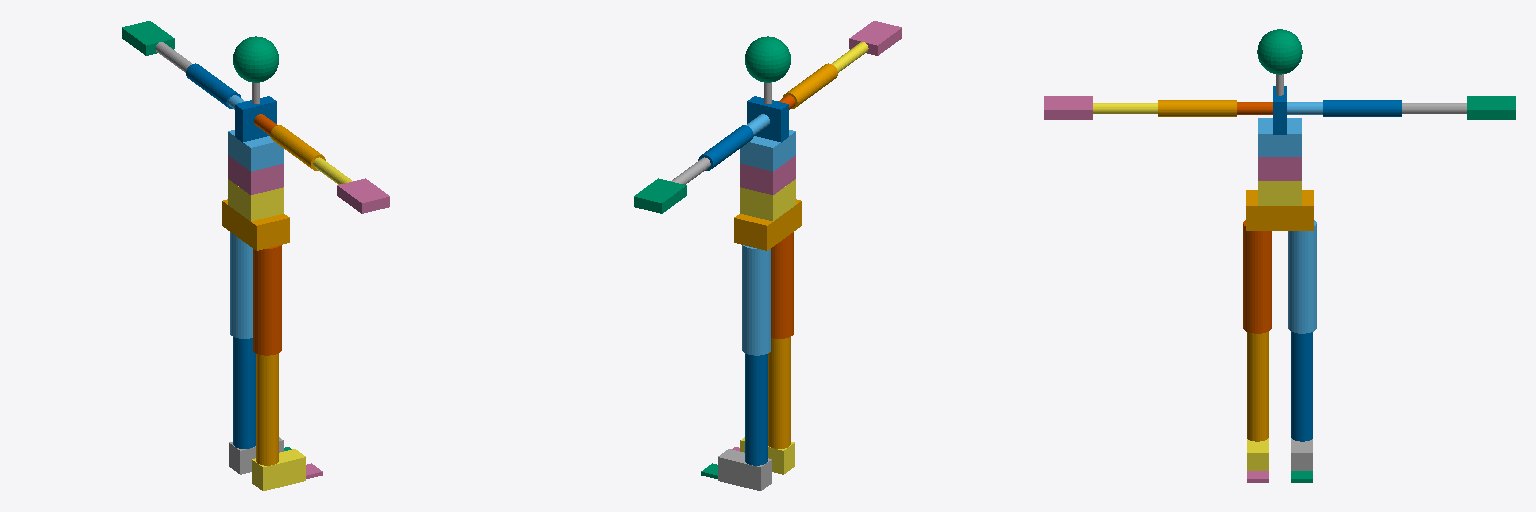
--- What the picture shows (computed from the rendered views, not written in the file) ---
3 views of the same robot in one strip: view 1: azimuth 30°, elevation 25°; view 2: azimuth 150°, elevation 25°; view 3: azimuth 270°, elevation 25° (orthographic).
Model XSensStyleModel_template with 67 links and 66 joints (66 revolute), rooted at Pelvis, posed all joints at 0.
Visible links, largest first — view 1: RightUpperLeg, RightLowerLeg, LeftLowerLeg, LeftUpperLeg, Pelvis, Head, RightFoot, T12, L5, L3, T8, RightHand (+4 smaller); view 2: LeftUpperLeg, LeftLowerLeg, RightLowerLeg, RightUpperLeg, Pelvis, Head, LeftFoot, T12, L5, L3, T8, LeftHand (+4 smaller); view 3: RightUpperLeg, LeftUpperLeg, RightLowerLeg, LeftLowerLeg, Pelvis, Head, T12, RightUpperArm, LeftUpperArm, RightHand, LeftHand, L5 (+6 smaller).
Boxes of the visible links, box(x1,y1,x2,y2) form: RightUpperLeg: box(253, 245, 281, 355); RightLowerLeg: box(256, 354, 278, 465); LeftLowerLeg: box(233, 337, 255, 448); LeftUpperLeg: box(230, 232, 252, 338); Pelvis: box(222, 199, 289, 250); Head: box(233, 36, 278, 82); RightFoot: box(252, 449, 305, 490); T12: box(228, 130, 283, 171); L5: box(228, 179, 283, 221); L3: box(228, 155, 283, 194); T8: box(235, 96, 276, 142); RightHand: box(337, 178, 389, 213); LeftUpperLeg: box(742, 245, 770, 355); LeftLowerLeg: box(745, 354, 767, 465); RightLowerLeg: box(768, 337, 790, 448); RightUpperLeg: box(771, 232, 793, 338); Pelvis: box(734, 199, 801, 250); Head: box(745, 36, 790, 82); LeftFoot: box(718, 449, 771, 490); T12: box(740, 130, 795, 171); L5: box(740, 179, 795, 221); L3: box(740, 155, 795, 194); T8: box(747, 96, 788, 142); LeftHand: box(634, 178, 686, 213); RightUpperLeg: box(1243, 220, 1271, 333); LeftUpperLeg: box(1288, 220, 1316, 333); RightLowerLeg: box(1247, 332, 1268, 441); LeftLowerLeg: box(1291, 332, 1312, 441); Pelvis: box(1246, 190, 1313, 230); Head: box(1257, 29, 1302, 74); T12: box(1258, 118, 1301, 156); RightUpperArm: box(1158, 100, 1236, 116); LeftUpperArm: box(1323, 100, 1401, 116); RightHand: box(1044, 96, 1092, 119); LeftHand: box(1467, 96, 1515, 119); L5: box(1258, 181, 1301, 205).
Size in the robot's own frame: 0.2804 by 1.67 by 1.68 metres.
Geometry: primitives only (box / cylinder / sphere), no mesh files.

URDF robot description (XSensStyleModel_template):
<robot name="XSensStyleModel_template">
<!--To open this model with Gazebo replace the null masses, inertias and dimensions of the 'fake links f1 and f2'-->
    <!--LINKS-->
	<!--Link base (1)-->
	<link name="Pelvis">
        <inertial>
            <mass value="4.9652"/>
			<!--COM origin wrt pHipOrigin-->
            <origin xyz="0           0    0.048588" rpy="0 0 0" />
            <inertia ixx="0.027604" iyy="0.011288" izz="0.031195" ixy="0" ixz="0" iyz="0"/>
        </inertial>

        <visual>
			<!--box origin wrt pHipOrigin-->
            <origin xyz="0           0    0.048588" rpy="0 0 0" />
            <geometry>
                <box size="0.13409     0.23961    0.096443"/>
            </geometry>
        </visual>

        <collision>
			<!--box origin wrt pHipOrigin-->
            <origin xyz="0           0    0.048588" rpy="0 0 0" />
            <geometry>
                <box size="0.13409     0.23961    0.096443"/>
            </geometry>
        </collision>

    </link>
    <!--Chain from (2) to (7)-->
	<link name="L5_f1">
        <inertial>
            <mass value="0"/>
            <origin xyz="0 0 0" rpy="0 0 0" />
            <inertia ixx="0" iyy="0" izz="0" ixy="0" ixz="0" iyz="0"/>
        </inertial>
    </link>
	<link name="L5_f2">
        <inertial>
            <mass value="0"/>
            <origin xyz="0 0 0" rpy="0 0 0" />
            <inertia ixx="0" iyy="0" izz="0" ixy="0" ixz="0" iyz="0"/>
        </inertial>
    </link>
	<link name="L5">
        <inertial>
            <mass value="6.3306"/>
			<!--COM origin wrt jL5S1-->
            <origin xyz="0           0    0.050322" rpy="0 0 0" />
            <inertia ixx="0.045068" iyy="0.033801" izz="0.067244" ixy="0" ixz="0" iyz="0"/>
        </inertial>

        <visual>
			<!--box origin origin wrt jL5S1-->
            <origin xyz="0           0    0.050322" rpy="0 0 0" />
            <geometry>
                <box size="0.13409     0.15843     0.10064"/>
            </geometry>
        </visual>

        <collision>
			<!--box origin origin wrt jL5S1-->
            <origin xyz="0           0    0.050322" rpy="0 0 0" />
            <geometry>
                <box size="0.13409     0.15843     0.10064"/>
            </geometry>
        </collision>
    </link>
	<link name="L3_f1">
        <inertial>
            <mass value="0"/>
            <origin xyz="0 0 0" rpy="0 0 0" />
            <inertia ixx="0" iyy="0" izz="0" ixy="0" ixz="0" iyz="0"/>
        </inertial>
    </link>
	<link name="L3_f2">
        <inertial>
            <mass value="0"/>
            <origin xyz="0 0 0" rpy="0 0 0" />
            <inertia ixx="0" iyy="0" izz="0" ixy="0" ixz="0" iyz="0"/>
        </inertial>
    </link>
	<link name="L3">
        <inertial>
            <mass value="6.3306"/>
			<!--COM origin wrt jL4L3-->
            <origin xyz="0           0    0.045465" rpy="0 0 0" />
            <inertia ixx="0.044087" iyy="0.032819" izz="0.067244" ixy="0" ixz="0" iyz="0"/>
        </inertial>

        <visual>
			<!--box origin origin wrt jL4L3-->
            <origin xyz="0           0    0.045465" rpy="0 0 0" />
            <geometry>
                <box size="0.13409     0.15843     0.09093"/>
            </geometry>
        </visual>

        <collision>
			<!--box origin origin wrt jL4L3-->
            <origin xyz="0           0    0.045465" rpy="0 0 0" />
            <geometry>
                <box size="0.13409     0.15843     0.09093"/>
            </geometry>
        </collision>
    </link>
	<link name="T12_f1">
        <inertial>
            <mass value="0"/>
            <origin xyz="0 0 0" rpy="0 0 0" />
            <inertia ixx="0" iyy="0" izz="0" ixy="0" ixz="0" iyz="0"/>
        </inertial>
    </link>
	<link name="T12_f2">
        <inertial>
            <mass value="0"/>
            <origin xyz="0 0 0" rpy="0 0 0" />
            <inertia ixx="0" iyy="0" izz="0" ixy="0" ixz="0" iyz="0"/>
        </inertial>
    </link>
	<link name="T12">
        <inertial>
            <mass value="6.3306"/>
			<!--COM origin wrt jL1T12-->
            <origin xyz="0           0    0.045465" rpy="0 0 0" />
            <inertia ixx="0.044087" iyy="0.032819" izz="0.067244" ixy="0" ixz="0" iyz="0"/>
        </inertial>

        <visual>
			<!--box origin origin wrt jL1T12-->
            <origin xyz="0           0    0.045465" rpy="0 0 0" />
            <geometry>
                <box size="0.13409     0.15843     0.09093"/>
            </geometry>
        </visual>

        <collision>
			<!--box origin origin wrt jL1T12-->
            <origin xyz="0           0    0.045465" rpy="0 0 0" />
            <geometry>
                <box size="0.13409     0.15843     0.09093"/>
            </geometry>
        </collision>
    </link>
	<link name="T8_f1">
        <inertial>
            <mass value="0"/>
            <origin xyz="0 0 0" rpy="0 0 0" />
            <inertia ixx="0" iyy="0" izz="0" ixy="0" ixz="0" iyz="0"/>
        </inertial>
    </link>
	<link name="T8_f2">
        <inertial>
            <mass value="0"/>
            <origin xyz="0 0 0" rpy="0 0 0" />
            <inertia ixx="0" iyy="0" izz="0" ixy="0" ixz="0" iyz="0"/>
        </inertial>
    </link>
	<link name="T8">
        <inertial>
            <mass value="2.4826"/>
			<!--COM origin wrt jT9T8-->
            <origin xyz="0           0    0.062885" rpy="0 0 0" />
            <inertia ixx="0.003843" iyy="0.00723" izz="0.0045281" ixy="0" ixz="0" iyz="0"/>
        </inertial>

        <visual>
			<!--box origin wrt jT9T8-->
            <origin xyz="0           0    0.062885" rpy="0 0 0" />
            <geometry>
                <box size="0.13831    0.052514     0.12577"/>
            </geometry>
        </visual>

        <collision>
			<!--box origin wrt jT9T8-->
            <origin xyz="0           0    0.062885" rpy="0 0 0" />
            <geometry>
                <box size="0.13831    0.052514     0.12577"/>
            </geometry>
        </collision>

    </link>
	<link name="Neck_f1">
        <inertial>
            <mass value="0"/>
            <origin xyz="0 0 0" rpy="0 0 0" />
            <inertia ixx="0" iyy="0" izz="0" ixy="0" ixz="0" iyz="0"/>
        </inertial>
    </link>
	<link name="Neck_f2">
        <inertial>
            <mass value="0"/>
            <origin xyz="0 0 0" rpy="0 0 0" />
            <inertia ixx="0" iyy="0" izz="0" ixy="0" ixz="0" iyz="0"/>
        </inertial>
    </link>
	<link name="Neck">
        <inertial>
            <mass value="0.74478"/>
			<!--COM origin wrt jT1C7-->
            <origin xyz="0           0    0.042348" rpy="0 0 0" />
            <inertia ixx="0.00058579" iyy="0.00058579" izz="0.00028115" ixy="0" ixz="0" iyz="0"/>
        </inertial>

        <visual>
			<!--box origin wrt jT1C7-->
            <origin xyz="0           0    0.042348" rpy="0 0 0" />
            <geometry>
		<cylinder length="0.084696" radius="0.013739"/>
            </geometry>
        </visual>

        <collision>
			<!--box origin wrt jT1C7-->
            <origin xyz="0           0    0.042348" rpy="0 0 0" />
            <geometry>
                <cylinder length="0.084696" radius="0.013739"/>
            </geometry>
        </collision>
    </link>
	<link name="Head_f1">
        <inertial>
            <mass value="0"/>
            <origin xyz="0 0 0" rpy="0 0 0" />
            <inertia ixx="0" iyy="0" izz="0" ixy="0" ixz="0" iyz="0"/>
        </inertial>
    </link>
	<link name="Head_f2">
        <inertial>
            <mass value="0"/>
            <origin xyz="0 0 0" rpy="0 0 0" />
            <inertia ixx="0" iyy="0" izz="0" ixy="0" ixz="0" iyz="0"/>
        </inertial>
    </link>
	<link name="Head">
        <inertial>
            <mass value="2.2343"/>
			<!--COM origin wrt jC1Head-->
            <origin xyz="0           0    0.080693" rpy="0 0 0" />
            <inertia ixx="0.0058193" iyy="0.0058193" izz="0.0058193" ixy="0" ixz="0" iyz="0"/>
        </inertial>

        <visual>
			<!--boc origin wrt jC1Head-->
            <origin xyz="0           0    0.080693" rpy="0 0 0" />
            <geometry>
                <sphere radius="0.080693"/>
            </geometry>
        </visual>

        <collision>
			<!--box origin wrt jC1Head-->
            <origin xyz="0           0    0.080693" rpy="0 0 0" />
            <geometry>
                <sphere radius="0.080693"/>
            </geometry>
        </collision>

    </link>
	<!--Chain from (8) to (11)-->
	<link name="RightShoulder_f1">
        <inertial>
            <mass value="0"/>
            <origin xyz="0 0 0" rpy="0 0 0" />
            <inertia ixx="0" iyy="0" izz="0" ixy="0" ixz="0" iyz="0"/>
        </inertial>
    </link>
	<link name="RightShoulder_f2">
        <inertial>
            <mass value="0"/>
            <origin xyz="0 0 0" rpy="0 0 0" />
            <inertia ixx="0" iyy="0" izz="0" ixy="0" ixz="0" iyz="0"/>
        </inertial>
    </link>
	<link name="RightShoulder">
        <inertial>
            <mass value="1.924"/>
			<!--COM origin wrt jRightC7Shoulder-->
            <origin xyz="0   -0.063159           0" rpy="0 0 0" />
            <inertia ixx="0.00281" iyy="0.00050334" izz="0.00281" ixy="0" ixz="0" iyz="0"/>
        </inertial>

        <visual>
			<!--box origin wrt jRightC7Shoulder. RPY rotated of pi/2.-->
            <origin xyz="0   -0.063159           0" rpy="1.5708 0 0" />
            <geometry>
                <cylinder length="0.12632" radius="0.022874"/>
            </geometry>
        </visual>

        <collision>
			<!--box origin wrt jRightC7Shoulder. RPY rotated of pi/2.-->
            <origin xyz="0   -0.063159           0" rpy="1.5708 0 0" />
            <geometry>
                <cylinder length="0.12632" radius="0.022874"/>
            </geometry>
        </collision>

    </link>
	<link name="RightUpperArm_f1">
        <inertial>
            <mass value="0"/>
            <origin xyz="0 0 0" rpy="0 0 0" />
            <inertia ixx="0" iyy="0" izz="0" ixy="0" ixz="0" iyz="0"/>
        </inertial>
    </link>
	<link name="RightUpperArm_f2">
        <inertial>
            <mass value="0"/>
            <origin xyz="0 0 0" rpy="0 0 0" />
            <inertia ixx="0" iyy="0" izz="0" ixy="0" ixz="0" iyz="0"/>
        </inertial>
    </link>
    <link name="RightUpperArm">
        <inertial>
            <mass value="1.8619"/>
			<!--COM origin wrt jRightShoulder-->
            <origin xyz="0    -0.14042           0" rpy="0 0 0" />
            <inertia ixx="0.01267" iyy="0.01267" izz="0.00086624" ixy="0" ixz="0" iyz="0"/>
        </inertial>

        <visual>
			<!--box origin wrt jRightShoulder. RPY rotated of pi/2.-->
            <origin xyz="0    -0.14042           0" rpy="1.5708 0 0" />
            <geometry>
                <cylinder length="0.28083" radius="0.030503"/>
            </geometry>
        </visual>

        <collision>
			<!--box origin wrt jRightShoulder. RPY rotated of pi/2.-->
            <origin xyz="0    -0.14042           0" rpy="1.5708 0 0" />
            <geometry>
                <cylinder length="0.28083" radius="0.030503"/>
            </geometry>
        </collision>

    </link>
	<link name="RightForeArm_f1">
        <inertial>
            <mass value="0"/>
            <origin xyz="0 0 0" rpy="0 0 0" />
            <inertia ixx="0" iyy="0" izz="0" ixy="0" ixz="0" iyz="0"/>
        </inertial>
    </link>
	<link name="RightForeArm_f2">
        <inertial>
            <mass value="0"/>
            <origin xyz="0 0 0" rpy="0 0 0" />
            <inertia ixx="0" iyy="0" izz="0" ixy="0" ixz="0" iyz="0"/>
        </inertial>
    </link>
	<link name="RightForeArm">
        <inertial>
            <mass value="1.2413"/>
			<!--COM origin wrt jRightElbow-->
            <origin xyz="0    -0.11509           0" rpy="0 0 0" />
            <inertia ixx="0.005609" iyy="0.005609" izz="0.00025666" ixy="0" ixz="0" iyz="0"/>
        </inertial>

        <visual>
			<!--box origin wrt jRightElbow. RPY rotated of pi/2.-->
            <origin xyz="0    -0.11509           0" rpy="1.5708 0 0" />
            <geometry>
                <cylinder length="0.23018" radius="0.020336"/>
            </geometry>
        </visual>

        <collision>
			<!--box origin wrt jRightElbow. RPY rotated of pi/2.-->
            <origin xyz="0    -0.11509           0" rpy="1.5708 0 0" />
            <geometry>
                <cylinder length="0.23018" radius="0.020336"/>
            </geometry>
        </collision>

    </link>
	<link name="RightHand_f1">
        <inertial>
            <mass value="0"/>
            <origin xyz="0 0 0" rpy="0 0 0" />
            <inertia ixx="0" iyy="0" izz="0" ixy="0" ixz="0" iyz="0"/>
        </inertial>
    </link>
	<link name="RightHand_f2">
        <inertial>
            <mass value="0"/>
            <origin xyz="0 0 0" rpy="0 0 0" />
            <inertia ixx="0" iyy="0" izz="0" ixy="0" ixz="0" iyz="0"/>
        </inertial>
    </link>
	<link name="RightHand">
        <inertial>
            <mass value="0.37239"/>
			<!--COM origin wrt jRightWrist-->
            <origin xyz="0   -0.086033           0" rpy="0 0 0" />
            <inertia ixx="0.00097011" iyy="0.00045968" izz="0.0013271" ixy="0" ixz="0" iyz="0"/>
        </inertial>

        <visual>
			<!--box origin wrt jRightWrist-->
            <origin xyz="0   -0.086033           0" rpy="0 0 0" />
            <geometry>
                <box size="0.11471     0.17207    0.040671"/>
            </geometry>
        </visual>

        <collision>
			<!--box origin wrt jRightWrist-->
            <origin xyz="0   -0.086033           0" rpy="0 0 0" />
            <geometry>
                <box size="0.11471     0.17207    0.040671"/>
            </geometry>
        </collision>

    </link>
	<!--Chain from (12) to (15)-->
	<link name="LeftShoulder_f1">
        <inertial>
            <mass value="0"/>
            <origin xyz="0 0 0" rpy="0 0 0" />
            <inertia ixx="0" iyy="0" izz="0" ixy="0" ixz="0" iyz="0"/>
        </inertial>
    </link>
	<link name="LeftShoulder_f2">
        <inertial>
            <mass value="0"/>
            <origin xyz="0 0 0" rpy="0 0 0" />
            <inertia ixx="0" iyy="0" izz="0" ixy="0" ixz="0" iyz="0"/>
        </inertial>
    </link>
	<link name="LeftShoulder">
        <inertial>
            <mass value="1.924"/>
			<!--COM origin wrt jLeftC7Shoulder-->
            <origin xyz="0    0.063159           0" rpy="0 0 0" />
            <inertia ixx="0.00281" iyy="0.00050334" izz="0.00281" ixy="0" ixz="0" iyz="0"/>
        </inertial>

        <visual>
			<!--box origin wrt jLeftC7Shoulder. RPY rotated of pi/2.-->
            <origin xyz="0    0.063159           0" rpy="1.5708 0 0" />
            <geometry>
                <cylinder length="0.12632" radius="0.022874"/>
            </geometry>
        </visual>

        <collision>
			<!--box origin wrt jLeftC7Shoulder. RPY rotated of pi/2.-->
            <origin xyz="0    0.063159           0" rpy="1.5708 0 0" />
            <geometry>
                <cylinder length="0.12632" radius="0.022874"/>
            </geometry>
        </collision>

    </link>
	<link name="LeftUpperArm_f1">
        <inertial>
            <mass value="0"/>
            <origin xyz="0 0 0" rpy="0 0 0" />
            <inertia ixx="0" iyy="0" izz="0" ixy="0" ixz="0" iyz="0"/>
        </inertial>
    </link>
	<link name="LeftUpperArm_f2">
        <inertial>
            <mass value="0"/>
            <origin xyz="0 0 0" rpy="0 0 0" />
            <inertia ixx="0" iyy="0" izz="0" ixy="0" ixz="0" iyz="0"/>
        </inertial>
    </link>
	<link name="LeftUpperArm">
        <inertial>
            <mass value="1.8619"/>
			<!--COM origin wrt jLeftShoulder-->
            <origin xyz="0     0.14042           0" rpy="0 0 0" />
            <inertia ixx="0.01267" iyy="0.01267" izz="0.00086624" ixy="0" ixz="0" iyz="0"/>
        </inertial>

        <visual>
			<!--box origin wrt jLeftShoulder. RPY rotated of pi/2.-->
            <origin xyz="0     0.14042           0" rpy="1.5708 0 0" />
            <geometry>
                <cylinder length="0.28083" radius="0.030503"/>
            </geometry>
        </visual>

        <collision>
			<!--box origin wrt jLeftShoulder. RPY rotated of pi/2.-->
            <origin xyz="0     0.14042           0" rpy="1.5708 0 0" />
            <geometry>
                <cylinder length="0.28083" radius="0.030503"/>
            </geometry>
        </collision>

    </link>
	<link name="LeftForeArm_f1">
        <inertial>
            <mass value="0"/>
            <origin xyz="0 0 0" rpy="0 0 0" />
            <inertia ixx="0" iyy="0" izz="0" ixy="0" ixz="0" iyz="0"/>
        </inertial>
    </link>
	<link name="LeftForeArm_f2">
        <inertial>
            <mass value="0"/>
            <origin xyz="0 0 0" rpy="0 0 0" />
            <inertia ixx="0" iyy="0" izz="0" ixy="0" ixz="0" iyz="0"/>
        </inertial>
    </link>
	<link name="LeftForeArm">
        <inertial>
            <mass value="1.2413"/>
			<!--COM origin wrt jLeftElbow-->
            <origin xyz="0     0.11509           0" rpy="0 0 0" />
            <inertia ixx="0.005609" iyy="0.005609" izz="0.00025666" ixy="0" ixz="0" iyz="0"/>
        </inertial>

        <visual>
			<!--box origin wrt jLeftElbow. RPY rotated of pi/2.-->
            <origin xyz="0     0.11509           0" rpy="1.5708 0 0" />
            <geometry>
                <cylinder length="0.23018" radius="0.020336"/>
            </geometry>
        </visual>

        <collision>
			<!--box origin wrt jLeftElbow. RPY rotated of pi/2.-->
            <origin xyz="0     0.11509           0" rpy="1.5708 0 0" />
            <geometry>
                <cylinder length="0.23018" radius="0.020336"/>
            </geometry>
        </collision>

    </link>
	<link name="LeftHand_f1">
        <inertial>
            <mass value="0"/>
            <origin xyz="0 0 0" rpy="0 0 0" />
            <inertia ixx="0" iyy="0" izz="0" ixy="0" ixz="0" iyz="0"/>
        </inertial>
    </link>
	<link name="LeftHand_f2">
        <inertial>
            <mass value="0"/>
            <origin xyz="0 0 0" rpy="0 0 0" />
            <inertia ixx="0" iyy="0" izz="0" ixy="0" ixz="0" iyz="0"/>
        </inertial>
    </link>
	<link name="LeftHand">
        <inertial>
            <mass value="0.37239"/>
			<!--COM origin wrt jLeftWrist-->
            <origin xyz="0    0.086033           0" rpy="0 0 0" />
            <inertia ixx="0.00097011" iyy="0.00045968" izz="0.0013271" ixy="0" ixz="0" iyz="0"/>
        </inertial>

        <visual>
			<!--COM origin wrt jLeftWrist-->
            <origin xyz="0    0.086033           0" rpy="0 0 0" />
            <geometry>
                <box size="0.11471     0.17207    0.040671"/>
            </geometry>
        </visual>

        <collision>
			<!--COM origin wrt jLeftWrist-->
            <origin xyz="0    0.086033           0" rpy="0 0 0" />
            <geometry>
                <box size="0.11471     0.17207    0.040671"/>
            </geometry>
        </collision>

    </link>
	<!--Chain from (16) to (19)-->
	<link name="RightUpperLeg_f1">
        <inertial>
            <mass value="0"/>
            <origin xyz="0 0 0" rpy="0 0 0" />
            <inertia ixx="0" iyy="0" izz="0" ixy="0" ixz="0" iyz="0"/>
        </inertial>
    </link>
	<link name="RightUpperLeg_f2">
        <inertial>
            <mass value="0"/>
            <origin xyz="0 0 0" rpy="0 0 0" />
            <inertia ixx="0" iyy="0" izz="0" ixy="0" ixz="0" iyz="0"/>
        </inertial>
    </link>
    <link name="RightUpperLeg">
        <inertial>
            <mass value="7.7581"/>
			<!--COM origin wrt jRightHip-->
            <origin xyz="0           0    -0.20463" rpy="0 0 0" />
            <inertia ixx="0.11345" iyy="0.11345" izz="0.010326" ixy="0" ixz="0" iyz="0"/>
        </inertial>

        <visual>
			<!--box origin wrt jRightHip-->
            <origin xyz="0           0    -0.20463" rpy="0 0 0" />
            <geometry>
                <cylinder length="0.40926" radius="0.051595"/>
            </geometry>
        </visual>

        <collision>
			<!--box origin wrt jRightHip-->
            <origin xyz="0           0    -0.20463" rpy="0 0 0" />
            <geometry>
                <cylinder length="0.40926" radius="0.051595"/>
            </geometry>
        </collision>

    </link>
	<link name="RightLowerLeg_f1">
        <inertial>
            <mass value="0"/>
            <origin xyz="0 0 0" rpy="0 0 0" />
            <inertia ixx="0" iyy="0" izz="0" ixy="0" ixz="0" iyz="0"/>
        </inertial>
    </link>
	<link name="RightLowerLeg_f2">
        <inertial>
            <mass value="0"/>
            <origin xyz="0 0 0" rpy="0 0 0" />
            <inertia ixx="0" iyy="0" izz="0" ixy="0" ixz="0" iyz="0"/>
        </inertial>
    </link>
    <link name="RightLowerLeg">
        <inertial>
            <mass value="2.2654"/>
			<!--COM origin wrt jRightKnee-->
            <origin xyz="0           0    -0.21406" rpy="0 0 0" />
            <inertia ixx="0.035474" iyy="0.035474" izz="0.0017488" ixy="0" ixz="0" iyz="0"/>
        </inertial>

        <visual>
			<!--box origin wrt jRightKnee-->
            <origin xyz="0           0    -0.21406" rpy="0 0 0" />
            <geometry>
                <cylinder length="0.42811" radius="0.039293"/>
            </geometry>
        </visual>

        <collision>
			<!--box origin wrt jRightKnee-->
            <origin xyz="0           0    -0.21406" rpy="0 0 0" />
            <geometry>
                <cylinder length="0.42811" radius="0.039293"/>
            </geometry>
        </collision>

    </link>
	<link name="RightFoot_f1">
        <inertial>
            <mass value="0"/>
            <origin xyz="0 0 0" rpy="0 0 0" />
            <inertia ixx="0" iyy="0" izz="0" ixy="0" ixz="0" iyz="0"/>
        </inertial>
    </link>
	<link name="RightFoot_f2">
        <inertial>
            <mass value="0"/>
            <origin xyz="0 0 0" rpy="0 0 0" />
            <inertia ixx="0" iyy="0" izz="0" ixy="0" ixz="0" iyz="0"/>
        </inertial>
    </link>
    <link name="RightFoot">
        <inertial>
            <mass value="0.80684"/>
			<!--COM origin wrt jRightAnkle-->
            <origin xyz="0.047341           0   -0.045923" rpy="0 0 0" />
            <inertia ixx="0.00098245" iyy="0.0025999" izz="0.0024479" ixy="0" ixz="0" iyz="0"/>
        </inertial>

        <visual>
			<!--box origin wrt jRightAnkle-->
	    	<origin xyz="0.047341           0   -0.045923" rpy="0 0 0" />
            <geometry>
                <box size="0.17387    0.078587    0.091847"/>
            </geometry>
        </visual>

        <collision>
			<!--box origin wrt jRightAnkle-->
		    <origin xyz="0.047341           0   -0.045923" rpy="0 0 0" />
	            <geometry>
	                <box size="0.17387    0.078587    0.091847"/>
	            </geometry>
        </collision>

    </link>
	<link name="RightToe_f1">
        <inertial>
            <mass value="0"/>
            <origin xyz="0 0 0" rpy="0 0 0" />
            <inertia ixx="0" iyy="0" izz="0" ixy="0" ixz="0" iyz="0"/>
        </inertial>
    </link>
	<link name="RightToe_f2">
        <inertial>
            <mass value="0"/>
            <origin xyz="0 0 0" rpy="0 0 0" />
            <inertia ixx="0" iyy="0" izz="0" ixy="0" ixz="0" iyz="0"/>
        </inertial>
    </link>
    <link name="RightToe">
        <inertial>
            <mass value="0.093097"/>
			<!--COM origin wrt jRightBallFoot-->
            <origin xyz="0.033062           0           0" rpy="0 0 0" />
            <inertia ixx="4.9587e-05" iyy="3.5594e-05" izz="8.1834e-05" ixy="0" ixz="0" iyz="0"/>
        </inertial>

        <visual>
			<!--box origin wrt jRightBallFoot-->
            <origin xyz="0.033062           0           0" rpy="0 0 0" />
            <geometry>
                <box size="0.066123    0.078587    0.014689"/>
            </geometry>
        </visual>

        <collision>
			<!--box origin wrt jRightBallFoot-->
            <origin xyz="0.033062           0           0" rpy="0 0 0" />
            <geometry>
                <box size="0.066123    0.078587    0.014689"/>
            </geometry>
        </collision>
    </link>
	<!--Chain from (20) to (23)-->
	<link name="LeftUpperLeg_f1">
        <inertial>
            <mass value="0"/>
            <origin xyz="0 0 0" rpy="0 0 0" />
            <inertia ixx="0" iyy="0" izz="0" ixy="0" ixz="0" iyz="0"/>
        </inertial>
    </link>
	<link name="LeftUpperLeg_f2">
        <inertial>
            <mass value="0"/>
            <origin xyz="0 0 0" rpy="0 0 0" />
            <inertia ixx="0" iyy="0" izz="0" ixy="0" ixz="0" iyz="0"/>
        </inertial>
    </link>
    <link name="LeftUpperLeg">
        <inertial>
            <mass value="7.7581"/>
			<!--COM origin wrt jLeftHip-->
            <origin xyz="0           0    -0.20463" rpy="0 0 0" />
            <inertia ixx="0.11345" iyy="0.11345" izz="0.010326" ixy="0" ixz="0" iyz="0"/>
        </inertial>

        <visual>
			<!--box origin wrt jLeftHip-->
            <origin xyz="0           0    -0.20463" rpy="0 0 0" />
            <geometry>
                <cylinder length="0.40926" radius="-0.051595"/>
            </geometry>
        </visual>

        <collision>
			<!--box origin wrt jLeftHip-->
            <origin xyz="0           0    -0.20463" rpy="0 0 0" />
            <geometry>
                <cylinder length="0.40926" radius="-0.051595"/>
            </geometry>
        </collision>

    </link>
	<link name="LeftLowerLeg_f1">
        <inertial>
            <mass value="0"/>
            <origin xyz="0 0 0" rpy="0 0 0" />
            <inertia ixx="0" iyy="0" izz="0" ixy="0" ixz="0" iyz="0"/>
        </inertial>
    </link>
	<link name="LeftLowerLeg_f2">
        <inertial>
            <mass value="0"/>
            <origin xyz="0 0 0" rpy="0 0 0" />
            <inertia ixx="0" iyy="0" izz="0" ixy="0" ixz="0" iyz="0"/>
        </inertial>
    </link>
	<link name="LeftLowerLeg">
        <inertial>
            <mass value="2.2654"/>
			<!--COM origin wrt jLeftKnee-->
            <origin xyz="0           0    -0.21406" rpy="0 0 0" />
            <inertia ixx="0.035474" iyy="0.035474" izz="0.0017488" ixy="0" ixz="0" iyz="0"/>
        </inertial>

        <visual>
			<!--box origin wrt jLeftKnee-->
            <origin xyz="0           0    -0.21406" rpy="0 0 0" />
            <geometry>
		<cylinder length="0.42811" radius="0.039293"/>
            </geometry>
        </visual>

        <collision>
			<!--box origin wrt jLeftKnee-->
            <origin xyz="0           0    -0.21406" rpy="0 0 0" />
            <geometry>
		<cylinder length="0.42811" radius="0.039293"/>
            </geometry>
        </collision>

    </link>
	<link name="LeftFoot_f1">
        <inertial>
            <mass value="0"/>
            <origin xyz="0 0 0" rpy="0 0 0" />
            <inertia ixx="0" iyy="0" izz="0" ixy="0" ixz="0" iyz="0"/>
        </inertial>
    </link>
	<link name="LeftFoot_f2">
        <inertial>
            <mass value="0"/>
            <origin xyz="0 0 0" rpy="0 0 0" />
            <inertia ixx="0" iyy="0" izz="0" ixy="0" ixz="0" iyz="0"/>
        </inertial>
    </link>
    <link name="LeftFoot">
        <inertial>
            <mass value="0.80684"/>
			<!--COM origin wrt jLeftAnkle-->
            <origin xyz="0.047341           0   -0.045923" rpy="0 0 0" />
            <inertia ixx="0.00098245" iyy="0.0025999" izz="0.0024479" ixy="0" ixz="0" iyz="0"/>
        </inertial>

        <visual>
			<!--box origin wrt jLeftAnkle-->
	   	 	<origin xyz="0.047341           0   -0.045923" rpy="0 0 0" />
            <geometry>
                <box size="0.17387    0.078587    0.091847"/>
            </geometry>
        </visual>

        <collision>
			<!--box origin wrt jLeftAnkle-->
		    <origin xyz="0.047341           0   -0.045923" rpy="0 0 0" />
	            <geometry>
	                <box size="0.17387    0.078587    0.091847"/>
	            </geometry>
        </collision>

    </link>
	<link name="LeftToe_f1">
        <inertial>
            <mass value="0"/>
            <origin xyz="0 0 0" rpy="0 0 0" />
            <inertia ixx="0" iyy="0" izz="0" ixy="0" ixz="0" iyz="0"/>
        </inertial>
    </link>
	<link name="LeftToe_f2">
        <inertial>
            <mass value="0"/>
            <origin xyz="0 0 0" rpy="0 0 0" />
            <inertia ixx="0" iyy="0" izz="0" ixy="0" ixz="0" iyz="0"/>
        </inertial>
    </link>
	<link name="LeftToe">
        <inertial>
            <mass value="0.093097"/>
			<!--COM origin wrt jLeftBallFoot-->
            <origin xyz="0.033062           0           0" rpy="0 0 0" />
            <inertia ixx="4.9587e-05" iyy="3.5594e-05" izz="8.1834e-05" ixy="0" ixz="0" iyz="0"/>
        </inertial>

        <visual>
			<!--box origin wrt jLeftBallFoot-->
            <origin xyz="0.033062           0           0" rpy="0 0 0" />
            <geometry>
                <box size="0.066123    0.078587    0.014689"/>
            </geometry>
        </visual>

        <collision>
			<!--box origin wrt jLeftBallFoot-->
            <origin xyz="0.033062           0           0" rpy="0 0 0" />
            <geometry>
                <box size="0.066123    0.078587    0.014689"/>
            </geometry>
        </collision>
    </link>


	<!--JOINTS-->
	<!--Chain from (2) to (7)-->
	<joint name="jL5S1_rotx" type="revolute">
        <origin xyz="-7.5e-05           0     0.09681" rpy="0 0 0"/>
        <parent link="Pelvis"/>
        <child link="L5_f1"/>
        <dynamics damping="0.1" friction="0.0"/>
        <limit effort="30" velocity="1.0" lower="-10.0" upper="10.0" />
        <axis xyz="1 0 0" />
    </joint>
	<joint name="jL5S1_roty" type="revolute">
        <origin xyz="0 0 0" rpy="0 0 0"/>
        <parent link="L5_f1"/>
        <child link="L5_f2"/>
        <dynamics damping="0.1" friction="0.0"/>
        <limit effort="30" velocity="1.0" lower="-10.0" upper="10.0" />
        <axis xyz="0 1 0" />
    </joint>
    <joint name="jL5S1_rotz" type="revolute">
        <origin xyz="0 0 0" rpy="0 0 0"/>
        <parent link="L5_f2"/>
        <child link="L5"/>
        <dynamics damping="0.1" friction="0.0"/>
        <limit effort="30" velocity="1.0" lower="-10.0" upper="10.0" />
        <axis xyz="0 0 1" />
    </joint>
	<joint name="jL4L3_rotx" type="revolute">
        <origin xyz="0.000136           0     0.10064" rpy="0 0 0"/>
        <parent link="L5"/>
        <child link="L3_f1"/>
        <dynamics damping="0.1" friction="0.0"/>
        <limit effort="30" velocity="1.0" lower="-10.0" upper="10.0" />
        <axis xyz="1 0 0" />
    </joint>
	<joint name="jL4L3_roty" type="revolute">
        <origin xyz="0 0 0" rpy="0 0 0"/>
        <parent link="L3_f1"/>
        <child link="L3_f2"/>
        <dynamics damping="0.1" friction="0.0"/>
        <limit effort="30" velocity="1.0" lower="-10.0" upper="10.0" />
        <axis xyz="0 1 0" />
    </joint>
    <joint name="jL4L3_rotz" type="revolute">
        <origin xyz="0 0 0" rpy="0 0 0"/>
        <parent link="L3_f2"/>
        <child link="L3"/>
        <dynamics damping="0.1" friction="0.0"/>
        <limit effort="30" velocity="1.0" lower="-10.0" upper="10.0" />
        <axis xyz="0 0 1" />
    </joint>
	<joint name="jL1T12_rotx" type="revolute">
        <origin xyz="0           0     0.09093" rpy="0 0 0"/>
        <parent link="L3"/>
        <child link="T12_f1"/>
        <dynamics damping="0.1" friction="0.0"/>
        <limit effort="30" velocity="1.0" lower="-10.0" upper="10.0" />
        <axis xyz="1 0 0" />
    </joint>
	<joint name="jL1T12_roty" type="revolute">
        <origin xyz="0 0 0" rpy="0 0 0"/>
        <parent link="T12_f1"/>
        <child link="T12_f2"/>
        <dynamics damping="0.1" friction="0.0"/>
        <limit effort="30" velocity="1.0" lower="-10.0" upper="10.0" />
        <axis xyz="0 1 0" />
    </joint>
    <joint name="jL1T12_rotz" type="revolute">
        <origin xyz="0 0 0" rpy="0 0 0"/>
        <parent link="T12_f2"/>
        <child link="T12"/>
        <dynamics damping="0.1" friction="0.0"/>
        <limit effort="30" velocity="1.0" lower="-10.0" upper="10.0" />
        <axis xyz="0 0 1" />
    </joint>
	<joint name="jT9T8_rotx" type="revolute">
        <origin xyz="0           0     0.09093" rpy="0 0 0"/>
        <parent link="T12"/>
        <child link="T8_f1"/>
        <dynamics damping="0.1" friction="0.0"/>
        <limit effort="30" velocity="1.0" lower="-10.0" upper="10.0" />
        <axis xyz="1 0 0" />
    </joint>
	<joint name="jT9T8_roty" type="revolute">
        <origin xyz="0 0 0" rpy="0 0 0"/>
        <parent link="T8_f1"/>
        <child link="T8_f2"/>
        <dynamics damping="0.1" friction="0.0"/>
        <limit effort="30" velocity="1.0" lower="-10.0" upper="10.0" />
        <axis xyz="0 1 0" />
    </joint>
    <joint name="jT9T8_rotz" type="revolute">
        <origin xyz="0 0 0" rpy="0 0 0"/>
        <parent link="T8_f2"/>
        <child link="T8"/>
        <dynamics damping="0.1" friction="0.0"/>
        <limit effort="30" velocity="1.0" lower="-10.0" upper="10.0" />
        <axis xyz="0 0 1" />
    </joint>
	<joint name="jT1C7_rotx" type="revolute">
        <origin xyz="0           0     0.12577" rpy="0 0 0"/>
        <parent link="T8"/>
        <child link="Neck_f1"/>
        <dynamics damping="0.1" friction="0.0"/>
        <limit effort="30" velocity="1.0" lower="-10.0" upper="10.0" />
        <axis xyz="1 0 0" />
    </joint>
	<joint name="jT1C7_roty" type="revolute">
        <origin xyz="0 0 0" rpy="0 0 0"/>
        <parent link="Neck_f1"/>
        <child link="Neck_f2"/>
        <dynamics damping="0.1" friction="0.0"/>
        <limit effort="30" velocity="1.0" lower="-10.0" upper="10.0" />
        <axis xyz="0 1 0" />
    </joint>
    <joint name="jT1C7_rotz" type="revolute">
        <origin xyz="0 0 0" rpy="0 0 0"/>
        <parent link="Neck_f2"/>
        <child link="Neck"/>
        <dynamics damping="0.1" friction="0.0"/>
        <limit effort="30" velocity="1.0" lower="-10.0" upper="10.0" />
        <axis xyz="0 0 1" />
    </joint>
	<joint name="jC1Head_rotx" type="revolute">
        <origin xyz="0.000323           0    0.084696" rpy="0 0 0"/>
        <parent link="Neck"/>
        <child link="Head_f1"/>
        <dynamics damping="0.1" friction="0.0"/>
        <limit effort="30" velocity="1.0" lower="-10.0" upper="10.0" />
        <axis xyz="1 0 0" />
    </joint>
	<joint name="jC1Head_roty" type="revolute">
        <origin xyz="0 0 0" rpy="0 0 0"/>
        <parent link="Head_f1"/>
        <child link="Head_f2"/>
        <dynamics damping="0.1" friction="0.0"/>
        <limit effort="30" velocity="1.0" lower="-10.0" upper="10.0" />
        <axis xyz="0 1 0" />
    </joint>
    <joint name="jC1Head_rotz" type="revolute">
        <origin xyz="0 0 0" rpy="0 0 0"/>
        <parent link="Head_f2"/>
        <child link="Head"/>
        <dynamics damping="0.1" friction="0.0"/>
        <limit effort="30" velocity="1.0" lower="-10.0" upper="10.0" />
        <axis xyz="0 0 1" />
    </joint>
	<!--Chain from (8) to (11)-->
	<joint name="jRightC7Shoulder_rotx" type="revolute">
        <origin xyz="0   -0.026257    0.070261" rpy="0 0 0"/>
        <parent link="T8"/>
        <child link="RightShoulder_f1"/>
        <dynamics damping="0.1" friction="0.0"/>
        <limit effort="30" velocity="1.0" lower="-10.0" upper="10.0" />
        <axis xyz="1 0 0" />
    </joint>
	<joint name="jRightC7Shoulder_roty" type="revolute">
        <origin xyz="0 0 0" rpy="0 0 0"/>
        <parent link="RightShoulder_f1"/>
        <child link="RightShoulder_f2"/>
        <dynamics damping="0.1" friction="0.0"/>
        <limit effort="30" velocity="1.0" lower="-10.0" upper="10.0" />
        <axis xyz="0 1 0" />
    </joint>
    <joint name="jRightC7Shoulder_rotz" type="revolute">
        <origin xyz="0 0 0" rpy="0 0 0"/>
        <parent link="RightShoulder_f2"/>
        <child link="RightShoulder"/>
        <dynamics damping="0.1" friction="0.0"/>
        <limit effort="30" velocity="1.0" lower="-10.0" upper="10.0" />
        <axis xyz="0 0 1" />
    </joint>
	<joint name="jRightShoulder_rotx" type="revolute">
        <origin xyz="0    -0.12632           0" rpy="0 0 0"/>
        <parent link="RightShoulder"/>
        <child link="RightUpperArm_f1"/>
        <dynamics damping="0.1" friction="0.0"/>
        <limit effort="30" velocity="1.0" lower="-10.0" upper="10.0" />
        <axis xyz="1 0 0" />
    </joint>
	<joint name="jRightShoulder_roty" type="revolute">
        <origin xyz="0 0 0" rpy="0 0 0"/>
        <parent link="RightUpperArm_f1"/>
        <child link="RightUpperArm_f2"/>
        <dynamics damping="0.1" friction="0.0"/>
        <limit effort="30" velocity="1.0" lower="-10.0" upper="10.0" />
        <axis xyz="0 1 0" />
    </joint>
    <joint name="jRightShoulder_rotz" type="revolute">
        <origin xyz="0 0 0" rpy="0 0 0"/>
        <parent link="RightUpperArm_f2"/>
        <child link="RightUpperArm"/>
        <dynamics damping="0.1" friction="0.0"/>
        <limit effort="30" velocity="1.0" lower="-10.0" upper="10.0" />
        <axis xyz="0 0 1" />
    </joint>
	<joint name="jRightElbow_rotx" type="revolute">
        <origin xyz="0    -0.28083           0" rpy="0 0 0"/>
        <parent link="RightUpperArm"/>
        <child link="RightForeArm_f1"/>
        <dynamics damping="0.1" friction="0.0"/>
        <limit effort="30" velocity="1.0" lower="-10.0" upper="10.0" />
        <axis xyz="1 0 0" />
    </joint>
	<joint name="jRightElbow_roty" type="revolute">
        <origin xyz="0 0 0" rpy="0 0 0"/>
        <parent link="RightForeArm_f1"/>
        <child link="RightForeArm_f2"/>
        <dynamics damping="0.1" friction="0.0"/>
        <limit effort="30" velocity="1.0" lower="-10.0" upper="10.0" />
        <axis xyz="0 1 0" />
    </joint>
    <joint name="jRightElbow_rotz" type="revolute">
        <origin xyz="0 0 0" rpy="0 0 0"/>
        <parent link="RightForeArm_f2"/>
        <child link="RightForeArm"/>
        <dynamics damping="0.1" friction="0.0"/>
        <limit effort="30" velocity="1.0" lower="-10.0" upper="10.0" />
        <axis xyz="0 0 1" />
    </joint>
	<joint name="jRightWrist_rotx" type="revolute">
        <origin xyz="3e-05    -0.23018           0" rpy="0 0 0"/>
        <parent link="RightForeArm"/>
        <child link="RightHand_f1"/>
        <dynamics damping="0.1" friction="0.0"/>
        <limit effort="30" velocity="1.0" lower="-10.0" upper="10.0" />
        <axis xyz="1 0 0" />
    </joint>
	<joint name="jRightWrist_roty" type="revolute">
        <origin xyz="0 0 0" rpy="0 0 0"/>
        <parent link="RightHand_f1"/>
        <child link="RightHand_f2"/>
        <dynamics damping="0.1" friction="0.0"/>
        <limit effort="30" velocity="1.0" lower="-10.0" upper="10.0" />
        <axis xyz="0 1 0" />
    </joint>
    <joint name="jRightWrist_rotz" type="revolute">
        <origin xyz="0 0 0" rpy="0 0 0"/>
        <parent link="RightHand_f2"/>
        <child link="RightHand"/>
        <dynamics damping="0.1" friction="0.0"/>
        <limit effort="30" velocity="1.0" lower="-10.0" upper="10.0" />
        <axis xyz="0 0 1" />
    </joint>
	<!--Chain from (12) to (15)-->
	<joint name="jLeftC7Shoulder_rotx" type="revolute">
        <origin xyz="0    0.026257    0.070261" rpy="0 0 0"/>
        <parent link="T8"/>
        <child link="LeftShoulder_f1"/>
        <dynamics damping="0.1" friction="0.0"/>
        <limit effort="30" velocity="1.0" lower="-10.0" upper="10.0" />
        <axis xyz="1 0 0" />
    </joint>
	<joint name="jLeftC7Shoulder_roty" type="revolute">
        <origin xyz="0 0 0" rpy="0 0 0"/>
        <parent link="LeftShoulder_f1"/>
        <child link="LeftShoulder_f2"/>
        <dynamics damping="0.1" friction="0.0"/>
        <limit effort="30" velocity="1.0" lower="-10.0" upper="10.0" />
        <axis xyz="0 1 0" />
    </joint>
    <joint name="jLeftC7Shoulder_rotz" type="revolute">
        <origin xyz="0 0 0" rpy="0 0 0"/>
        <parent link="LeftShoulder_f2"/>
        <child link="LeftShoulder"/>
        <dynamics damping="0.1" friction="0.0"/>
        <limit effort="30" velocity="1.0" lower="-10.0" upper="10.0" />
        <axis xyz="0 0 1" />
    </joint>
	<joint name="jLeftShoulder_rotx" type="revolute">
        <origin xyz="0     0.12632           0" rpy="0 0 0"/>
        <parent link="LeftShoulder"/>
        <child link="LeftUpperArm_f1"/>
        <dynamics damping="0.1" friction="0.0"/>
        <limit effort="30" velocity="1.0" lower="-10.0" upper="10.0" />
        <axis xyz="1 0 0" />
    </joint>
	<joint name="jLeftShoulder_roty" type="revolute">
        <origin xyz="0 0 0" rpy="0 0 0"/>
        <parent link="LeftUpperArm_f1"/>
        <child link="LeftUpperArm_f2"/>
        <dynamics damping="0.1" friction="0.0"/>
        <limit effort="30" velocity="1.0" lower="-10.0" upper="10.0" />
        <axis xyz="0 1 0" />
    </joint>
    <joint name="jLeftShoulder_rotz" type="revolute">
        <origin xyz="0 0 0" rpy="0 0 0"/>
        <parent link="LeftUpperArm_f2"/>
        <child link="LeftUpperArm"/>
        <dynamics damping="0.1" friction="0.0"/>
        <limit effort="30" velocity="1.0" lower="-10.0" upper="10.0" />
        <axis xyz="0 0 1" />
    </joint>
    <joint name="jLeftElbow_rotx" type="revolute">
        <origin xyz="0     0.28083           0" rpy="0 0 0"/>
        <parent link="LeftUpperArm"/>
        <child link="LeftForeArm_f1"/>
        <dynamics damping="0.1" friction="0.0"/>
        <limit effort="30" velocity="1.0" lower="-10.0" upper="10.0" />
        <axis xyz="1 0 0" />
    </joint>
	<joint name="jLeftElbow_roty" type="revolute">
        <origin xyz="0 0 0" rpy="0 0 0"/>
        <parent link="LeftForeArm_f1"/>
        <child link="LeftForeArm_f2"/>
        <dynamics damping="0.1" friction="0.0"/>
        <limit effort="30" velocity="1.0" lower="-10.0" upper="10.0" />
        <axis xyz="0 1 0" />
    </joint>
    <joint name="jLeftElbow_rotz" type="revolute">
        <origin xyz="0 0 0" rpy="0 0 0"/>
        <parent link="LeftForeArm_f2"/>
        <child link="LeftForeArm"/>
        <dynamics damping="0.1" friction="0.0"/>
        <limit effort="30" velocity="1.0" lower="-10.0" upper="10.0" />
        <axis xyz="0 0 1" />
    </joint>
	<joint name="jLeftWrist_rotx" type="revolute">
        <origin xyz="3e-05     0.23018           0" rpy="0 0 0"/>
        <parent link="LeftForeArm"/>
        <child link="LeftHand_f1"/>
        <dynamics damping="0.1" friction="0.0"/>
        <limit effort="30" velocity="1.0" lower="-10.0" upper="10.0" />
        <axis xyz="1 0 0" />
    </joint>
	<joint name="jLeftWrist_roty" type="revolute">
        <origin xyz="0 0 0" rpy="0 0 0"/>
        <parent link="LeftHand_f1"/>
        <child link="LeftHand_f2"/>
        <dynamics damping="0.1" friction="0.0"/>
        <limit effort="30" velocity="1.0" lower="-10.0" upper="10.0" />
        <axis xyz="0 1 0" />
    </joint>
    <joint name="jLeftWrist_rotz" type="revolute">
        <origin xyz="0 0 0" rpy="0 0 0"/>
        <parent link="LeftHand_f2"/>
        <child link="LeftHand"/>
        <dynamics damping="0.1" friction="0.0"/>
        <limit effort="30" velocity="1.0" lower="-10.0" upper="10.0" />
        <axis xyz="0 0 1" />
    </joint>
	<!--Chain from (16) to (19)-->
	<joint name="jRightHip_rotx" type="revolute">
        <origin xyz="3.7e-05   -0.079215    0.000367" rpy="0 0 0"/>
        <parent link="Pelvis"/>
        <child link="RightUpperLeg_f1"/>
        <dynamics damping="0.1" friction="0.0"/>
        <limit effort="30" velocity="1.0" lower="-10.0" upper="10.0" />
        <axis xyz="1 0 0" />
    </joint>
	<joint name="jRightHip_roty" type="revolute">
        <origin xyz="0 0 0" rpy="0 0 0"/>
        <parent link="RightUpperLeg_f1"/>
        <child link="RightUpperLeg_f2"/>
        <dynamics damping="0.1" friction="0.0"/>
        <limit effort="30" velocity="1.0" lower="-10.0" upper="10.0" />
        <axis xyz="0 1 0" />
    </joint>
    <joint name="jRightHip_rotz" type="revolute">
        <origin xyz="0 0 0" rpy="0 0 0"/>
        <parent link="RightUpperLeg_f2"/>
        <child link="RightUpperLeg"/>
        <dynamics damping="0.1" friction="0.0"/>
        <limit effort="30" velocity="1.0" lower="-10.0" upper="10.0" />
        <axis xyz="0 0 1" />
    </joint>
	<joint name="jRightKnee_rotx" type="revolute">
        <origin xyz="-2e-06           0    -0.40926" rpy="0 0 0"/>
        <parent link="RightUpperLeg"/>
        <child link="RightLowerLeg_f1"/>
        <dynamics damping="0.1" friction="0.0"/>
        <limit effort="30" velocity="1.0" lower="-10.0" upper="10.0" />
        <axis xyz="1 0 0" />
    </joint>
	<joint name="jRightKnee_roty" type="revolute">
        <origin xyz="0 0 0" rpy="0 0 0"/>
        <parent link="RightLowerLeg_f1"/>
        <child link="RightLowerLeg_f2"/>
        <dynamics damping="0.1" friction="0.0"/>
        <limit effort="30" velocity="1.0" lower="-10.0" upper="10.0" />
        <axis xyz="0 1 0" />
    </joint>
    <joint name="jRightKnee_rotz" type="revolute">
        <origin xyz="0 0 0" rpy="0 0 0"/>
        <parent link="RightLowerLeg_f2"/>
        <child link="RightLowerLeg"/>
        <dynamics damping="0.1" friction="0.0"/>
        <limit effort="30" velocity="1.0" lower="-10.0" upper="10.0" />
        <axis xyz="0 0 1" />
    </joint>
	<joint name="jRightAnkle_rotx" type="revolute">
        <origin xyz="-0.000373           0    -0.42811" rpy="0 0 0"/>
        <parent link="RightLowerLeg"/>
        <child link="RightFoot_f1"/>
        <dynamics damping="0.1" friction="0.0"/>
        <limit effort="30" velocity="1.0" lower="-10.0" upper="10.0" />
        <axis xyz="1 0 0" />
    </joint>
	<joint name="jRightAnkle_roty" type="revolute">
        <origin xyz="0 0 0" rpy="0 0 0"/>
        <parent link="RightFoot_f1"/>
        <child link="RightFoot_f2"/>
        <dynamics damping="0.1" friction="0.0"/>
        <limit effort="30" velocity="1.0" lower="-10.0" upper="10.0" />
        <axis xyz="0 1 0" />
    </joint>
    <joint name="jRightAnkle_rotz" type="revolute">
        <origin xyz="0 0 0" rpy="0 0 0"/>
        <parent link="RightFoot_f2"/>
        <child link="RightFoot"/>
        <dynamics damping="0.1" friction="0.0"/>
        <limit effort="30" velocity="1.0" lower="-10.0" upper="10.0" />
        <axis xyz="0 0 1" />
    </joint>
	<joint name="jRightBallFoot_rotx" type="revolute">
        <origin xyz="0.13428           0   -0.078689" rpy="0 0 0"/>
        <parent link="RightFoot"/>
        <child link="RightToe_f1"/>
        <dynamics damping="0.1" friction="0.0"/>
        <limit effort="30" velocity="1.0" lower="-10.0" upper="10.0" />
        <axis xyz="1 0 0" />
    </joint>
	<joint name="jRightBallFoot_roty" type="revolute">
        <origin xyz="0 0 0" rpy="0 0 0"/>
        <parent link="RightToe_f1"/>
        <child link="RightToe_f2"/>
        <dynamics damping="0.1" friction="0.0"/>
        <limit effort="30" velocity="1.0" lower="-10.0" upper="10.0" />
        <axis xyz="0 1 0" />
    </joint>
    <joint name="jRightBallFoot_rotz" type="revolute">
        <origin xyz="0 0 0" rpy="0 0 0"/>
        <parent link="RightToe_f2"/>
        <child link="RightToe"/>
        <dynamics damping="0.1" friction="0.0"/>
        <limit effort="30" velocity="1.0" lower="-10.0" upper="10.0" />
        <axis xyz="0 0 1" />
    </joint>
	<!--Chain from (20) to (23)-->
	<joint name="jLeftHip_rotx" type="revolute">
        <origin xyz="3.7e-05    0.079215    0.000367" rpy="0 0 0"/>
        <parent link="Pelvis"/>
        <child link="LeftUpperLeg_f1"/>
        <dynamics damping="0.1" friction="0.0"/>
        <limit effort="30" velocity="1.0" lower="-10.0" upper="10.0" />
        <axis xyz="1 0 0" />
    </joint>
	<joint name="jLeftHip_roty" type="revolute">
        <origin xyz="0 0 0" rpy="0 0 0"/>
        <parent link="LeftUpperLeg_f1"/>
        <child link="LeftUpperLeg_f2"/>
        <dynamics damping="0.1" friction="0.0"/>
        <limit effort="30" velocity="1.0" lower="-10.0" upper="10.0" />
        <axis xyz="0 1 0" />
    </joint>
    <joint name="jLeftHip_rotz" type="revolute">
        <origin xyz="0 0 0" rpy="0 0 0"/>
        <parent link="LeftUpperLeg_f2"/>
        <child link="LeftUpperLeg"/>
        <dynamics damping="0.1" friction="0.0"/>
        <limit effort="30" velocity="1.0" lower="-10.0" upper="10.0" />
        <axis xyz="0 0 1" />
    </joint>
	<joint name="jLeftKnee_rotx" type="revolute">
        <origin xyz="-2e-06           0    -0.40926" rpy="0 0 0"/>
        <parent link="LeftUpperLeg"/>
        <child link="LeftLowerLeg_f1"/>
        <dynamics damping="0.1" friction="0.0"/>
        <limit effort="30" velocity="1.0" lower="-10.0" upper="10.0" />
        <axis xyz="1 0 0" />
    </joint>
	<joint name="jLeftKnee_roty" type="revolute">
        <origin xyz="0 0 0" rpy="0 0 0"/>
        <parent link="LeftLowerLeg_f1"/>
        <child link="LeftLowerLeg_f2"/>
        <dynamics damping="0.1" friction="0.0"/>
        <limit effort="30" velocity="1.0" lower="-10.0" upper="10.0" />
        <axis xyz="0 1 0" />
    </joint>
    <joint name="jLeftKnee_rotz" type="revolute">
        <origin xyz="0 0 0" rpy="0 0 0"/>
        <parent link="LeftLowerLeg_f2"/>
        <child link="LeftLowerLeg"/>
        <dynamics damping="0.1" friction="0.0"/>
        <limit effort="30" velocity="1.0" lower="-10.0" upper="10.0" />
        <axis xyz="0 0 1" />
    </joint>
	<joint name="jLeftAnkle_rotx" type="revolute">
        <origin xyz="-0.000373           0    -0.42811" rpy="0 0 0"/>
        <parent link="LeftLowerLeg"/>
        <child link="LeftFoot_f1"/>
        <dynamics damping="0.1" friction="0.0"/>
        <limit effort="30" velocity="1.0" lower="-10.0" upper="10.0" />
        <axis xyz="1 0 0" />
    </joint>
	<joint name="jLeftAnkle_roty" type="revolute">
        <origin xyz="0 0 0" rpy="0 0 0"/>
        <parent link="LeftFoot_f1"/>
        <child link="LeftFoot_f2"/>
        <dynamics damping="0.1" friction="0.0"/>
        <limit effort="30" velocity="1.0" lower="-10.0" upper="10.0" />
        <axis xyz="0 1 0" />
    </joint>
    <joint name="jLeftAnkle_rotz" type="revolute">
        <origin xyz="0 0 0" rpy="0 0 0"/>
        <parent link="LeftFoot_f2"/>
        <child link="LeftFoot"/>
        <dynamics damping="0.1" friction="0.0"/>
        <limit effort="30" velocity="1.0" lower="-10.0" upper="10.0" />
        <axis xyz="0 0 1" />
    </joint>
	<joint name="jLeftBallFoot_rotx" type="revolute">
        <origin xyz="0.13428           0   -0.078689" rpy="0 0 0"/>
        <parent link="LeftFoot"/>
        <child link="LeftToe_f1"/>
        <dynamics damping="0.1" friction="0.0"/>
        <limit effort="30" velocity="1.0" lower="-10.0" upper="10.0" />
        <axis xyz="1 0 0" />
    </joint>
	<joint name="jLeftBallFoot_roty" type="revolute">
        <origin xyz="0 0 0" rpy="0 0 0"/>
        <parent link="LeftToe_f1"/>
        <child link="LeftToe_f2"/>
        <dynamics damping="0.1" friction="0.0"/>
        <limit effort="30" velocity="1.0" lower="-10.0" upper="10.0" />
        <axis xyz="0 1 0" />
    </joint>
    <joint name="jLeftBallFoot_rotz" type="revolute">
        <origin xyz="0 0 0" rpy="0 0 0"/>
        <parent link="LeftToe_f2"/>
        <child link="LeftToe"/>
        <dynamics damping="0.1" friction="0.0"/>
        <limit effort="30" velocity="1.0" lower="-10.0" upper="10.0" />
        <axis xyz="0 0 1" />
    </joint>

	<!-- Sensor  1-->
<sensor name="Pelvis_gyro" type="gyroscope">
<parent link="Pelvis"/>
<origin xyz="-0.055818  0.00024489    0.093816" rpy="0.11968      1.0446     -3.0045"/>
</sensor>
<sensor name="Pelvis_accelerometer" type="accelerometer">
<parent link="Pelvis"/>
<origin xyz="-0.055818  0.00024489    0.093816" rpy="0.11968      1.0446     -3.0045"/>
</sensor>
<!-- Sensor  2-->
<sensor name="T8_gyro" type="gyroscope">
<parent link="T8"/>
<origin xyz="0.12906 -1.9997e-05    0.071107" rpy="-0.13395      1.0496    -0.17832"/>
</sensor>
<sensor name="T8_accelerometer" type="accelerometer">
<parent link="T8"/>
<origin xyz="0.12906 -1.9997e-05    0.071107" rpy="-0.13395      1.0496    -0.17832"/>
</sensor>
<!-- Sensor  3-->
<sensor name="Head_gyro" type="gyroscope">
<parent link="Head"/>
<origin xyz="-0.064576 -0.00030216    0.071089" rpy="2.564    -0.09408     -1.5942"/>
</sensor>
<sensor name="Head_accelerometer" type="accelerometer">
<parent link="Head"/>
<origin xyz="-0.064576 -0.00030216    0.071089" rpy="2.564    -0.09408     -1.5942"/>
</sensor>
<!-- Sensor  4-->
<sensor name="RightShoulder_gyro" type="gyroscope">
<parent link="RightShoulder"/>
<origin xyz="-0.018314    -0.04573   -0.054844" rpy="0.86405    -0.14355    -0.96613"/>
</sensor>
<sensor name="RightShoulder_accelerometer" type="accelerometer">
<parent link="RightShoulder"/>
<origin xyz="-0.018314    -0.04573   -0.054844" rpy="0.86405    -0.14355    -0.96613"/>
</sensor>
<!-- Sensor  5-->
<sensor name="RightUpperArm_gyro" type="gyroscope">
<parent link="RightUpperArm"/>
<origin xyz="-0.018768    -0.09382    0.018813" rpy="-0.35498   0.0065541     -1.4919"/>
</sensor>
<sensor name="RightUpperArm_accelerometer" type="accelerometer">
<parent link="RightUpperArm"/>
<origin xyz="-0.018768    -0.09382    0.018813" rpy="-0.35498   0.0065541     -1.4919"/>
</sensor>
<!-- Sensor  6-->
<sensor name="RightForeArm_gyro" type="gyroscope">
<parent link="RightForeArm"/>
<origin xyz="0.0017022     -0.1885     0.01879" rpy="-0.8672   -0.036495     -1.4228"/>
</sensor>
<sensor name="RightForeArm_accelerometer" type="accelerometer">
<parent link="RightForeArm"/>
<origin xyz="0.0017022     -0.1885     0.01879" rpy="-0.8672   -0.036495     -1.4228"/>
</sensor>
<!-- Sensor  7-->
<sensor name="RightHand_gyro" type="gyroscope">
<parent link="RightHand"/>
<origin xyz="0.00021029   -0.051876    0.018779" rpy="-0.22076   -0.079589     -1.7793"/>
</sensor>
<sensor name="RightHand_accelerometer" type="accelerometer">
<parent link="RightHand"/>
<origin xyz="0.00021029   -0.051876    0.018779" rpy="-0.22076   -0.079589     -1.7793"/>
</sensor>
<!-- Sensor  8-->
<sensor name="LeftShoulder_gyro" type="gyroscope">
<parent link="LeftShoulder"/>
<origin xyz="-0.01834    0.045757   -0.054847" rpy="-0.99214    -0.17215      1.1717"/>
</sensor>
<sensor name="LeftShoulder_accelerometer" type="accelerometer">
<parent link="LeftShoulder"/>
<origin xyz="-0.01834    0.045757   -0.054847" rpy="-0.99214    -0.17215      1.1717"/>
</sensor>
<!-- Sensor  9-->
<sensor name="LeftUpperArm_gyro" type="gyroscope">
<parent link="LeftUpperArm"/>
<origin xyz="-0.018755    0.093804      0.0188" rpy="0.11731   -0.096586      1.5622"/>
</sensor>
<sensor name="LeftUpperArm_accelerometer" type="accelerometer">
<parent link="LeftUpperArm"/>
<origin xyz="-0.018755    0.093804      0.0188" rpy="0.11731   -0.096586      1.5622"/>
</sensor>
<!-- Sensor  10-->
<sensor name="LeftForeArm_gyro" type="gyroscope">
<parent link="LeftForeArm"/>
<origin xyz="0.0016809     0.18843    0.018762" rpy="0.14484   -0.057022      1.3172"/>
</sensor>
<sensor name="LeftForeArm_accelerometer" type="accelerometer">
<parent link="LeftForeArm"/>
<origin xyz="0.0016809     0.18843    0.018762" rpy="0.14484   -0.057022      1.3172"/>
</sensor>
<!-- Sensor  11-->
<sensor name="LeftHand_gyro" type="gyroscope">
<parent link="LeftHand"/>
<origin xyz="0.00020592     0.05188    0.018901" rpy="-0.32298     0.31766      2.0779"/>
</sensor>
<sensor name="LeftHand_accelerometer" type="accelerometer">
<parent link="LeftHand"/>
<origin xyz="0.00020592     0.05188    0.018901" rpy="-0.32298     0.31766      2.0779"/>
</sensor>
<!-- Sensor  12-->
<sensor name="RightUpperLeg_gyro" type="gyroscope">
<parent link="RightUpperLeg"/>
<origin xyz="0.012258   -0.041101    -0.24643" rpy="2.977      1.3208      1.7162"/>
</sensor>
<sensor name="RightUpperLeg_accelerometer" type="accelerometer">
<parent link="RightUpperLeg"/>
<origin xyz="0.012258   -0.041101    -0.24643" rpy="2.977      1.3208      1.7162"/>
</sensor>
<!-- Sensor  13-->
<sensor name="RightLowerLeg_gyro" type="gyroscope">
<parent link="RightLowerLeg"/>
<origin xyz="0.032414   0.0072127    -0.13924" rpy="-1.0656      1.4974    -0.36283"/>
</sensor>
<sensor name="RightLowerLeg_accelerometer" type="accelerometer">
<parent link="RightLowerLeg"/>
<origin xyz="0.032414   0.0072127    -0.13924" rpy="-1.0656      1.4974    -0.36283"/>
</sensor>
<!-- Sensor  14-->
<sensor name="RightFoot_gyro" type="gyroscope">
<parent link="RightFoot"/>
<origin xyz="0.076632  0.00096971   -0.010802" rpy="0.20666     0.56978   -0.085078"/>
</sensor>
<sensor name="RightFoot_accelerometer" type="accelerometer">
<parent link="RightFoot"/>
<origin xyz="0.076632  0.00096971   -0.010802" rpy="0.20666     0.56978   -0.085078"/>
</sensor>
<!-- Sensor  15-->
<sensor name="LeftUpperLeg_gyro" type="gyroscope">
<parent link="LeftUpperLeg"/>
<origin xyz="0.011575    0.042049    -0.24624" rpy="3.1278      1.3207    -0.78132"/>
</sensor>
<sensor name="LeftUpperLeg_accelerometer" type="accelerometer">
<parent link="LeftUpperLeg"/>
<origin xyz="0.011575    0.042049    -0.24624" rpy="3.1278      1.3207    -0.78132"/>
</sensor>
<!-- Sensor  16-->
<sensor name="LeftLowerLeg_gyro" type="gyroscope">
<parent link="LeftLowerLeg"/>
<origin xyz="0.032342  -0.0075107    -0.13924" rpy="0.85516      1.4657     0.87108"/>
</sensor>
<sensor name="LeftLowerLeg_accelerometer" type="accelerometer">
<parent link="LeftLowerLeg"/>
<origin xyz="0.032342  -0.0075107    -0.13924" rpy="0.85516      1.4657     0.87108"/>
</sensor>
<!-- Sensor  17-->
<sensor name="LeftFoot_gyro" type="gyroscope">
<parent link="LeftFoot"/>
<origin xyz="0.076704  -0.0012343   -0.010825" rpy="-0.13271     0.79946     0.17694"/>
</sensor>
<sensor name="LeftFoot_accelerometer" type="accelerometer">
<parent link="LeftFoot"/>
<origin xyz="0.076704  -0.0012343   -0.010825" rpy="-0.13271     0.79946     0.17694"/>
</sensor>


</robot>
